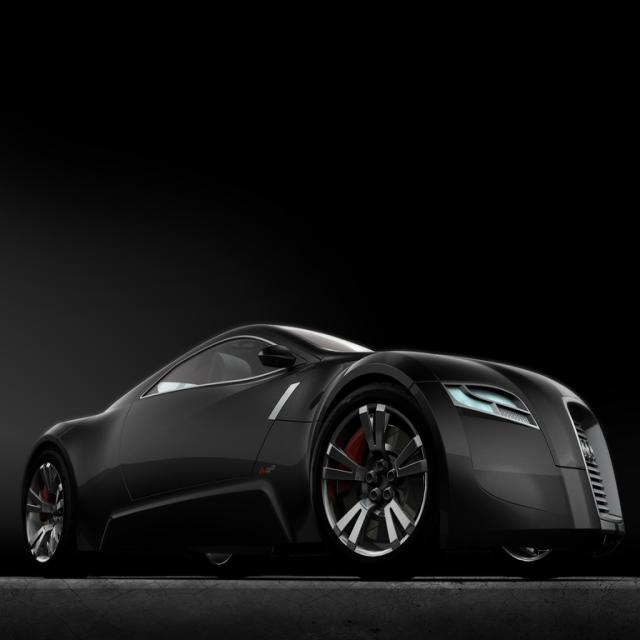car: (17, 318, 630, 579)
